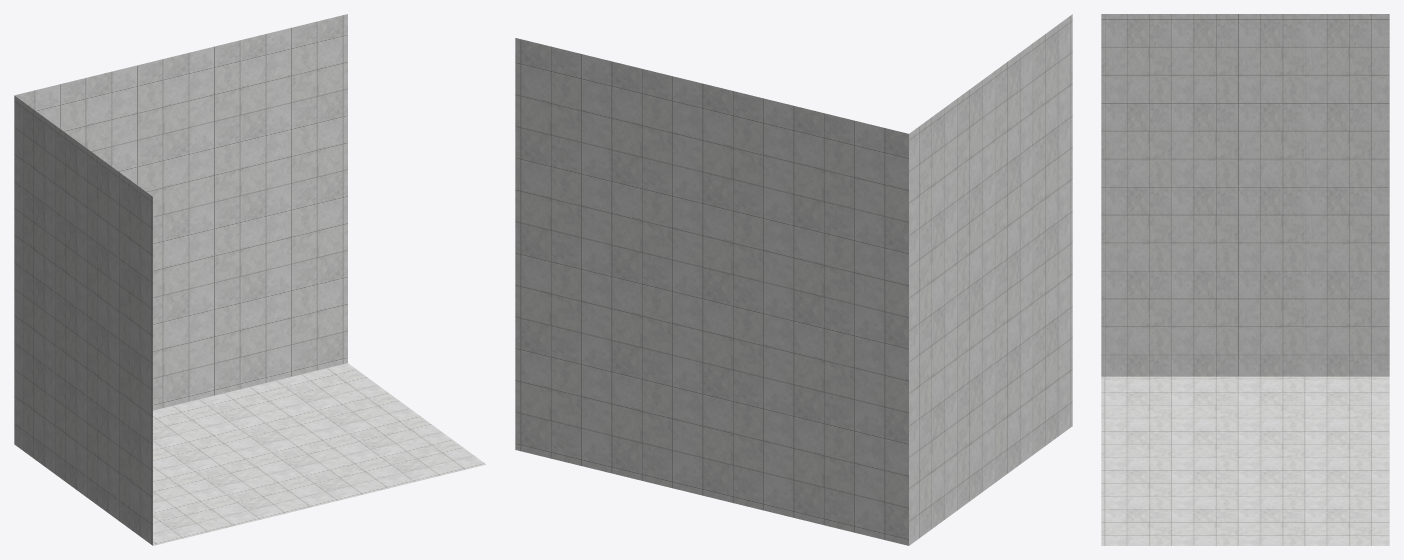
The model's file is wall_floor_background_sample.glb.
3 views of the same model, side by side, from view 1: azimuth 30°, elevation 25°; view 2: azimuth 150°, elevation 25°; view 3: azimuth 270°, elevation 25° (orthographic). The views are drawn at different scales.
Visible parts, largest first — view 1: Cube; view 2: Cube; view 3: Cube.
Part boxes in pixels (bbox=[...]): Cube: bbox=[14, 14, 485, 545]; Cube: bbox=[515, 14, 1072, 545]; Cube: bbox=[1101, 14, 1389, 545].
Size of the model in its own units: 5.06 by 5.06 by 3.64.
1 material, 1 textured.
